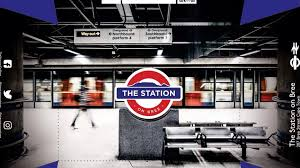London Underground: (115, 67, 183, 120)
